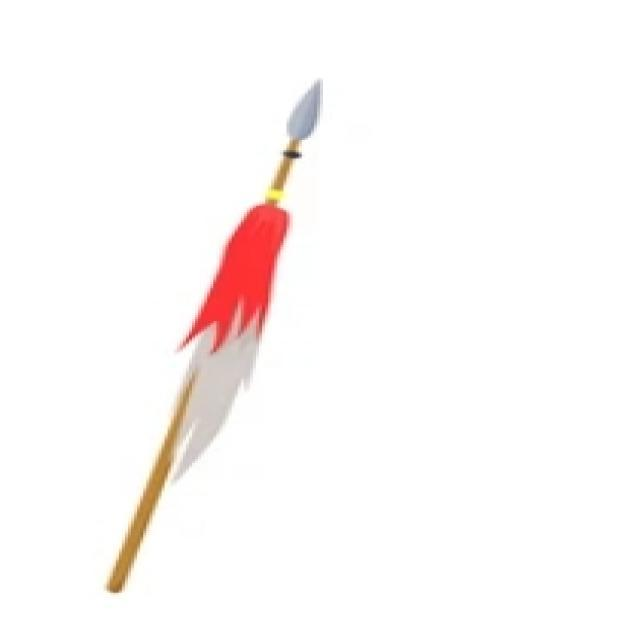spear: (107, 68, 330, 596)
